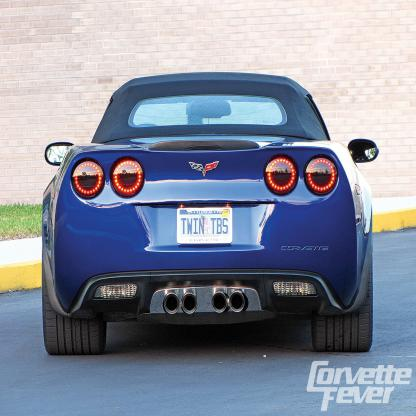Vehicle: (41, 72, 381, 353)
